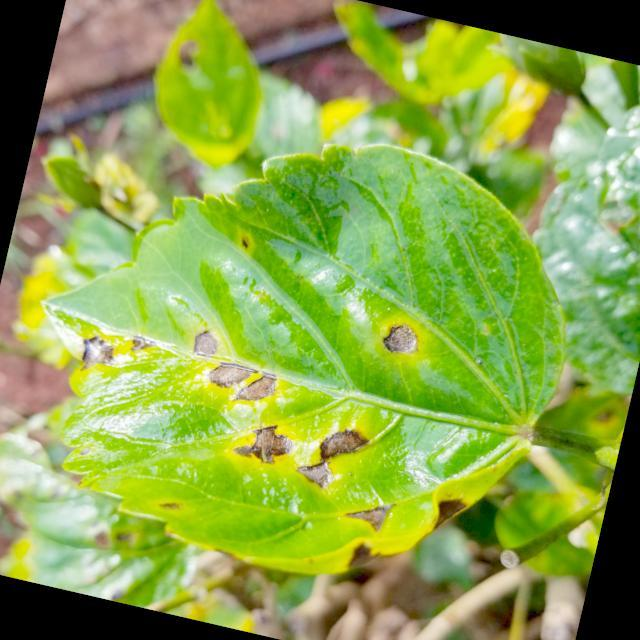Tomato bacterial spot leaf: (0, 68, 603, 626)
